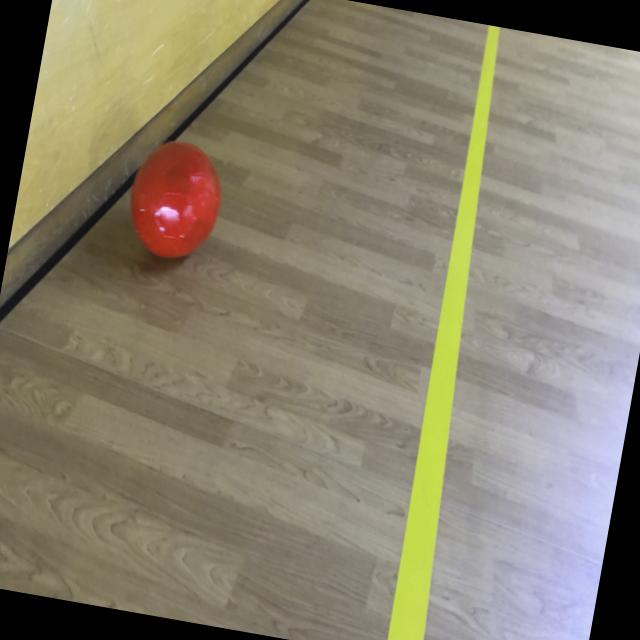red_ball: (121, 137, 228, 266)
